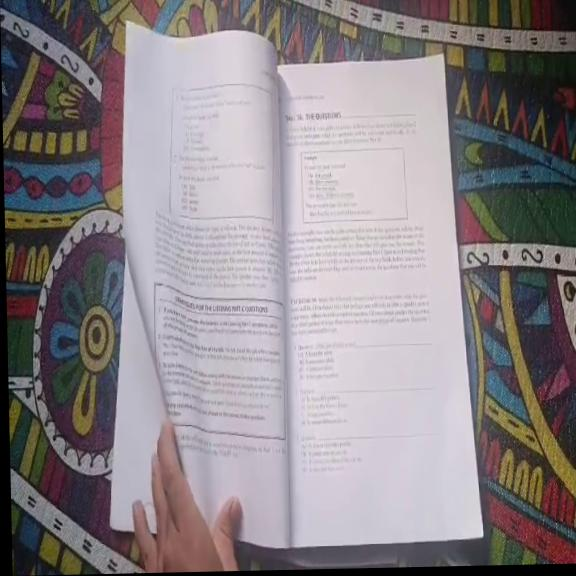Kertas: (279, 57, 482, 548), (111, 23, 289, 547)
